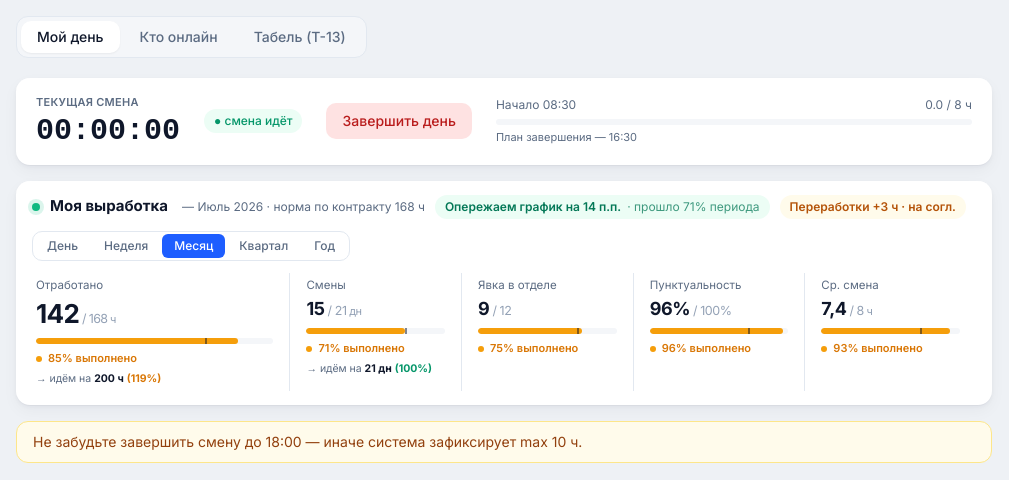
WorktimeView › кнопка «Завершить день» переводит смену в завершённое состояние
Click the button "Завершить день": (399, 121) [326, 103, 472, 139]
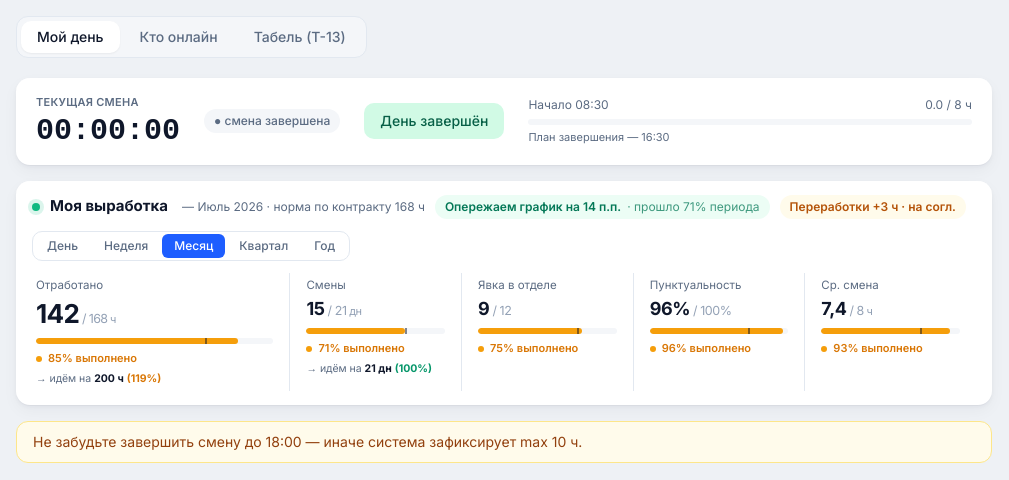
expect the text "День завершён" is shown: met, box [364, 103, 504, 139]
expect the text "● смена завершена" is shown: met, box [204, 109, 340, 133]
expect the button "Завершить день" is gone: met
